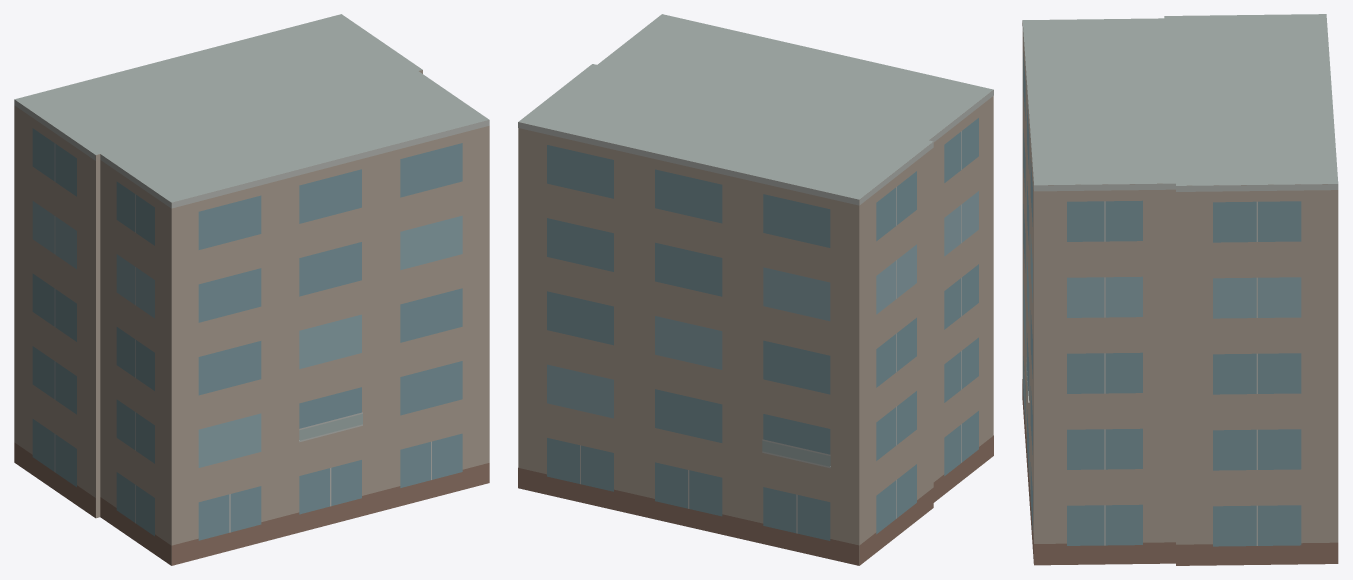
Rendered from survey-upis-32657361.glb.
3 renders of one model, left to right at view 1: azimuth 30°, elevation 25°; view 2: azimuth 150°, elevation 25°; view 3: azimuth 270°, elevation 25°, orthographic. The views are drawn at different scales.
Visible parts, largest first — view 1: survey-upis-32657361.tmp; view 2: survey-upis-32657361.tmp; view 3: survey-upis-32657361.tmp.
Part boxes in pixels (x1,y1,x2,y2): survey-upis-32657361.tmp: (14,14,489,565); survey-upis-32657361.tmp: (518,14,993,565); survey-upis-32657361.tmp: (1022,14,1338,565).
Bounding box in the file's own units: 14.66 × 15.1 × 11.38.
